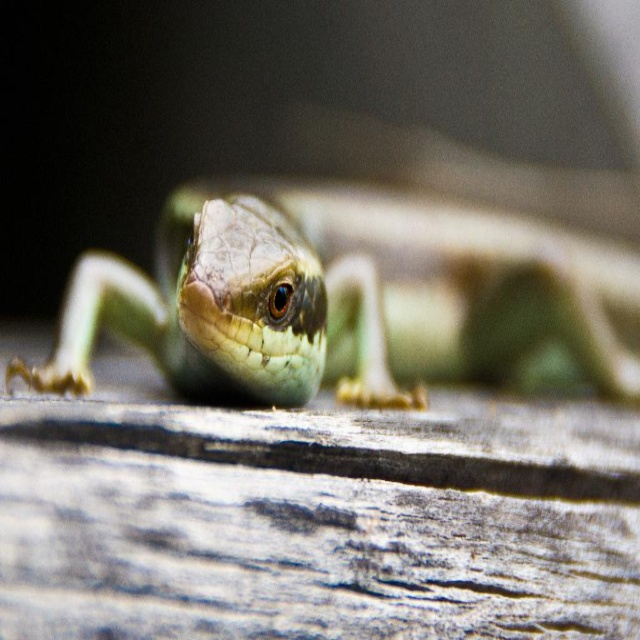Lizard: (45, 187, 583, 459)
